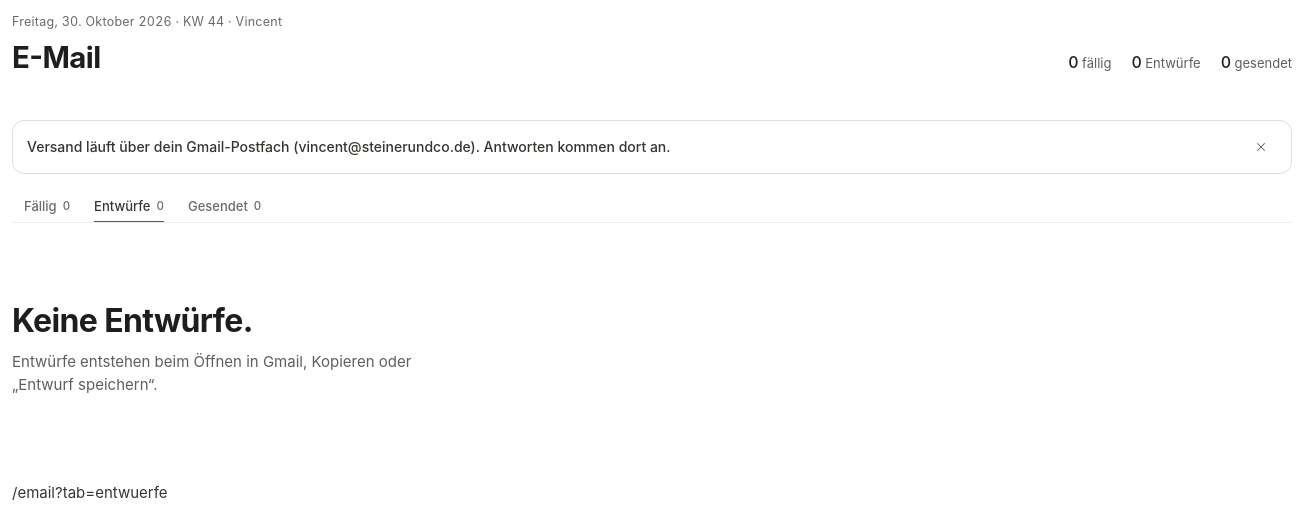
Test: EmailSeite › ?tab=entwuerfe wählt den Tab; Klick schreibt ?tab= in die URL
Expected: the heading "Keine Entwürfe." is shown, [12,301,253,340]
Click the tab "Gesendet 0". click: (225, 206)
box: [176,190,273,222]
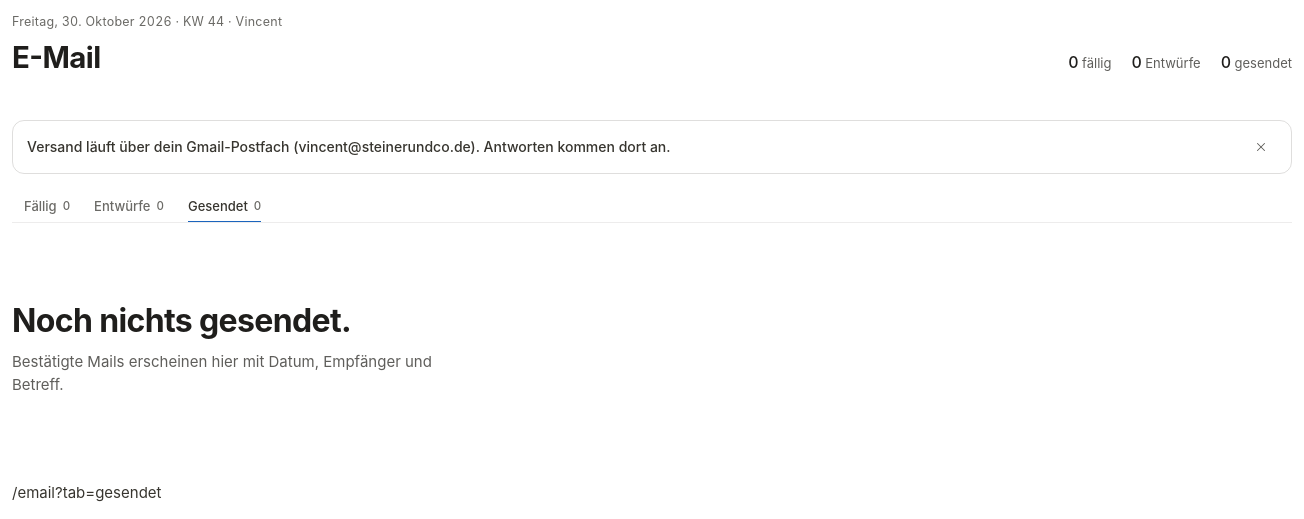
Expected: the text with test id "ort" reads "/email?tab=gesendet", [12,482,162,502]
Expected: the heading "Noch nichts gesendet." is shown, [12,301,351,340]
Expected: the panel "gesendet" is shown, [12,301,432,394]
